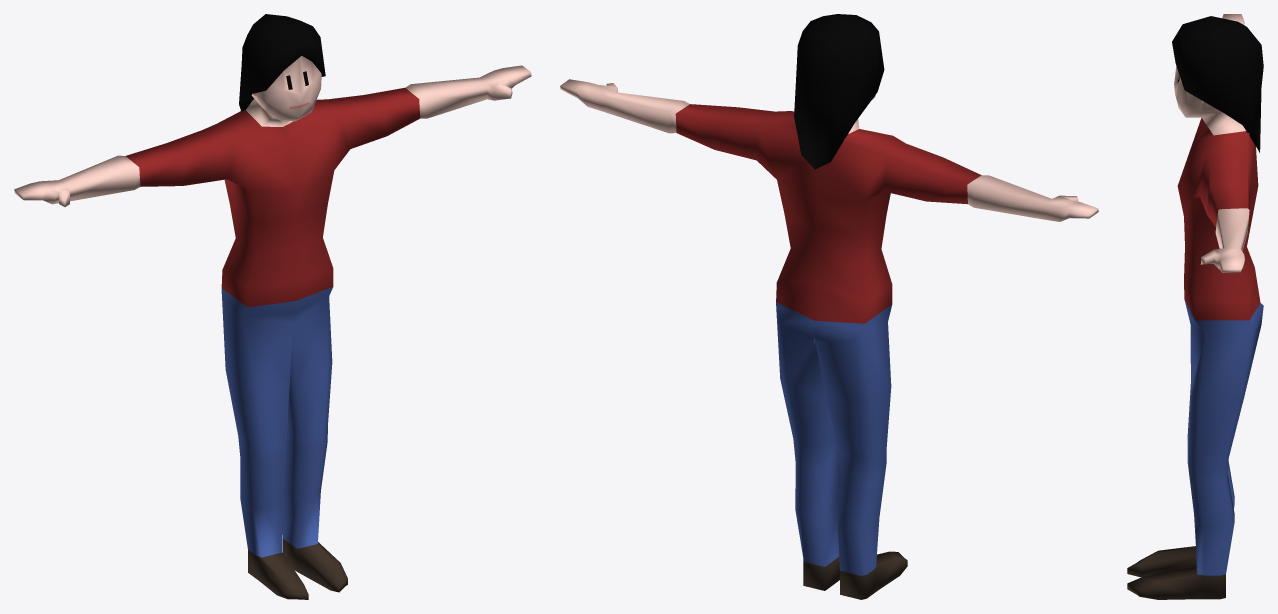
The model's file is Huma_Femella_NoRig.fbx.
The picture shows the model from 3 angles, left to right: view 1: azimuth 30°, elevation 25°; view 2: azimuth 150°, elevation 25°; view 3: azimuth 270°, elevation 25°; orthographic projection. The views are drawn at different scales.
Visible parts, largest first — view 1: Huma_Cos; view 2: Huma_Cos; view 3: Huma_Cos.
Part boxes in pixels (left/top/right/bottom): Huma_Cos: left=14, top=14, right=531, bottom=599; Huma_Cos: left=560, top=14, right=1098, bottom=599; Huma_Cos: left=1127, top=14, right=1263, bottom=599.
Size of the model in its own units: 1465 by 1510 by 332.
Materials: 1 (1 with a texture image).
